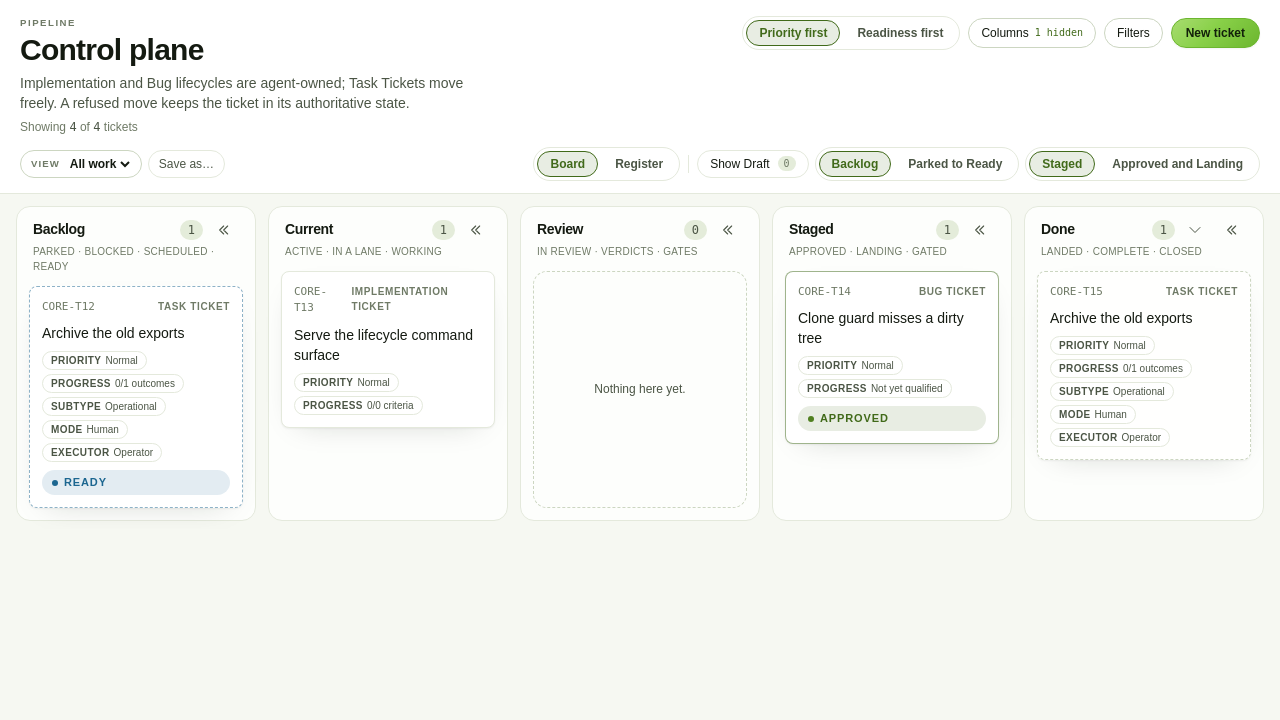
Test case: the board › moves Done below the board and brings it back, drifting the view
The width and height of the screenshot is (1280, 720).
Click the button with test id "move-done-below-board". click: (1195,230)
box: top-left (1179, 214), bottom-right (1211, 246)
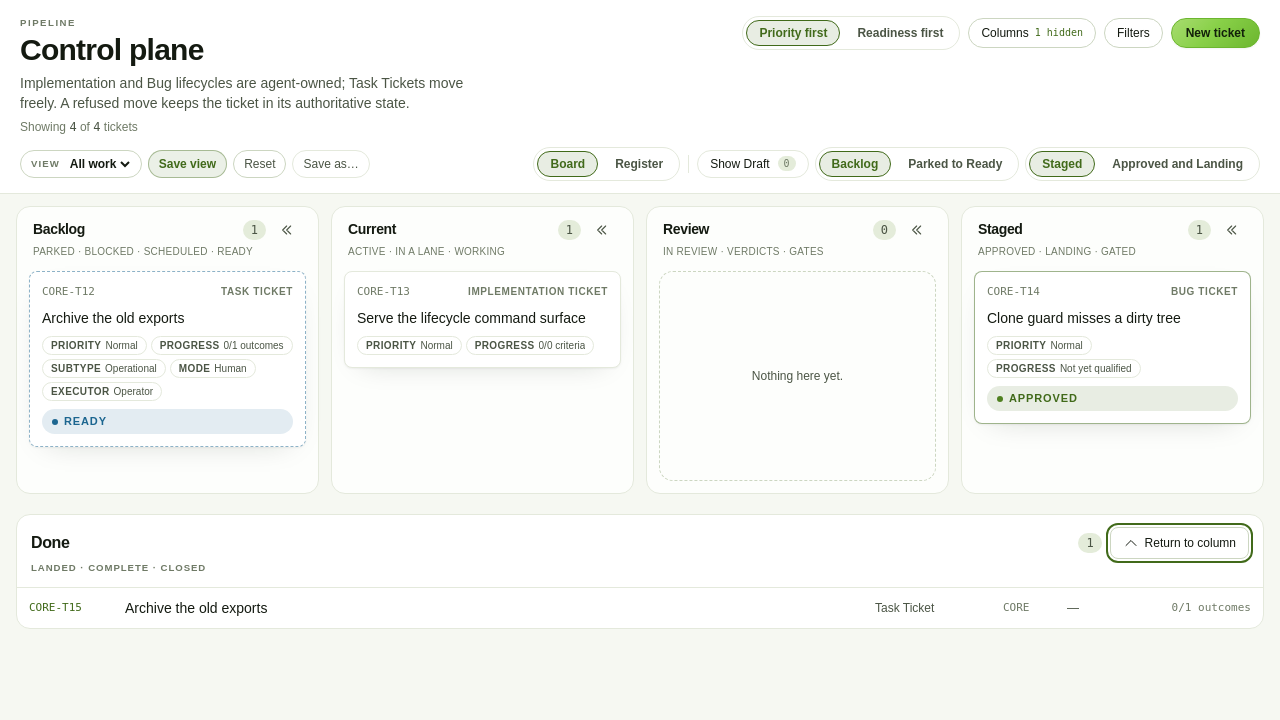
Expected: the text with test id "done-count" reads "1", top-left (1086, 536), bottom-right (1094, 550)
Expected: the element with test id "done-table" is shown, top-left (16, 514), bottom-right (1264, 629)
Expected: the element with test id "view-drift" is shown, top-left (148, 150), bottom-right (286, 178)
Click the button with test id "view-save". click: (188,164)
box: top-left (148, 150), bottom-right (227, 178)
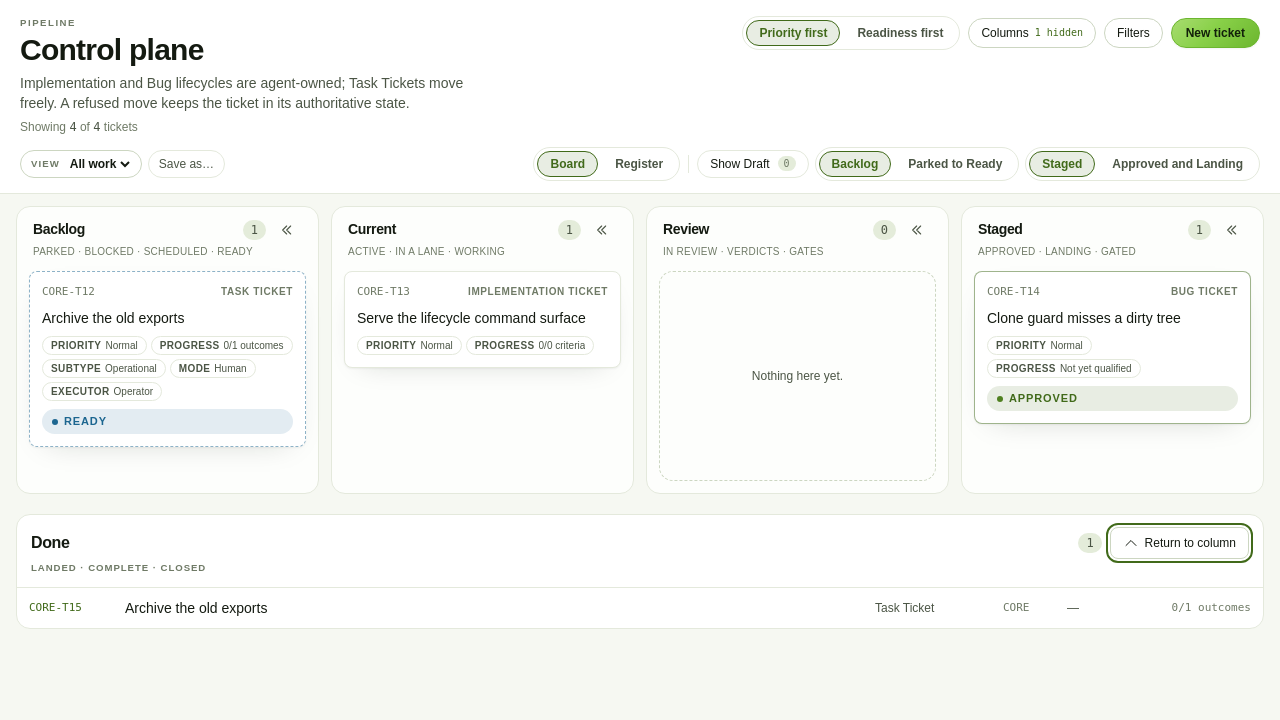
Click the button with test id "bring-done-back-to-board". click: (1179,543)
box: top-left (1110, 527), bottom-right (1249, 559)
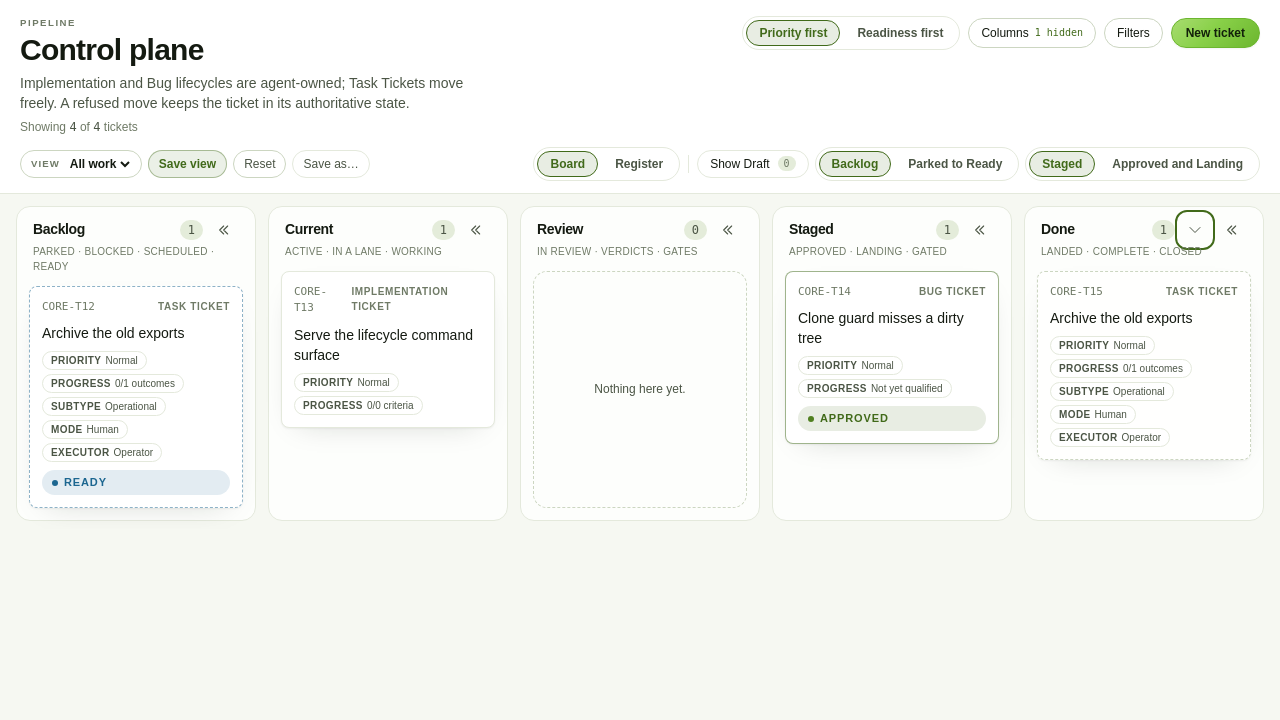
Expected: the element with test id "kanban-column-done" is shown, top-left (1024, 206), bottom-right (1264, 521)
Expected: the element with test id "view-drift" is shown, top-left (148, 150), bottom-right (286, 178)
